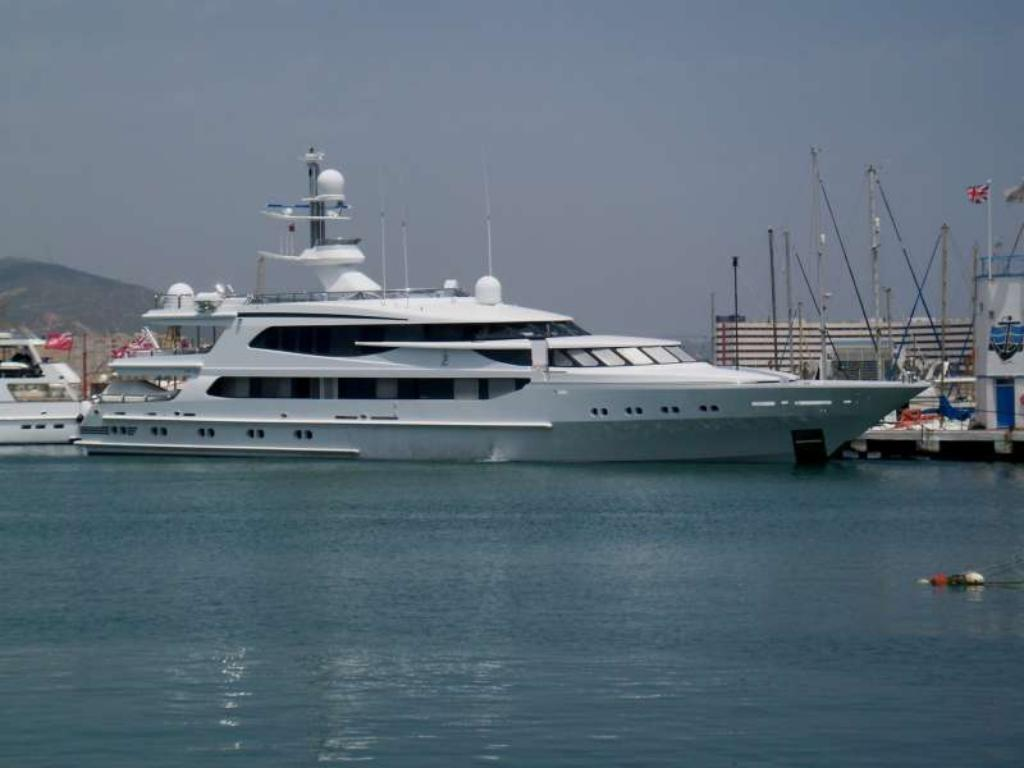PassengerShip: (70, 138, 928, 462)
